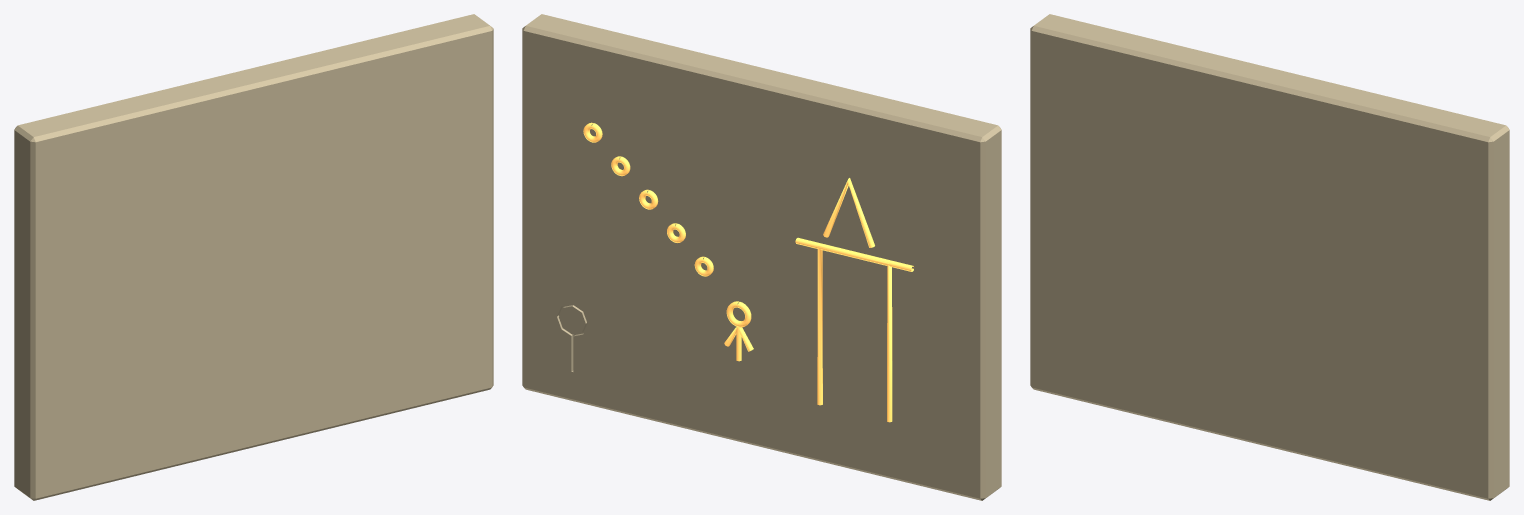
File: mural_5.glb
The picture shows the model from 3 angles, left to right: view 1: azimuth 30°, elevation 25°; view 2: azimuth 150°, elevation 25°; view 3: azimuth 330°, elevation 25°; orthographic projection.
Parts seen in each view (by area): view 1: mural_5; view 2: mural_5; view 3: mural_5.
Boxes of the visible parts, x1,y1,x2,y2 form: mural_5: (14, 14, 493, 500); mural_5: (522, 14, 1001, 500); mural_5: (1030, 14, 1509, 500).
Size of the model in its own units: 4 by 3 by 0.344.
